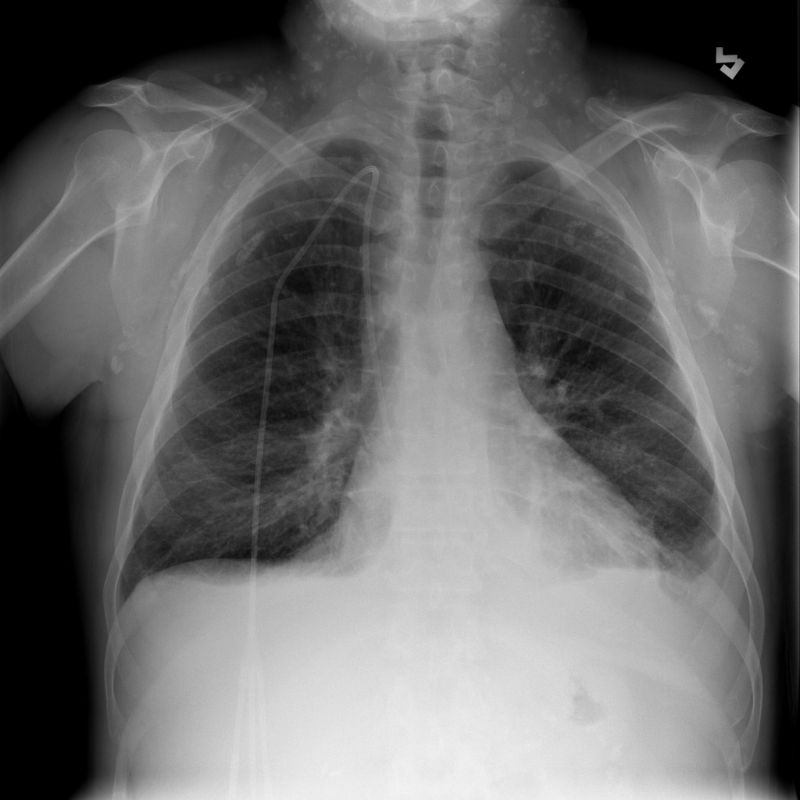PLEURAL EFFUSION: (655, 500, 755, 696)
